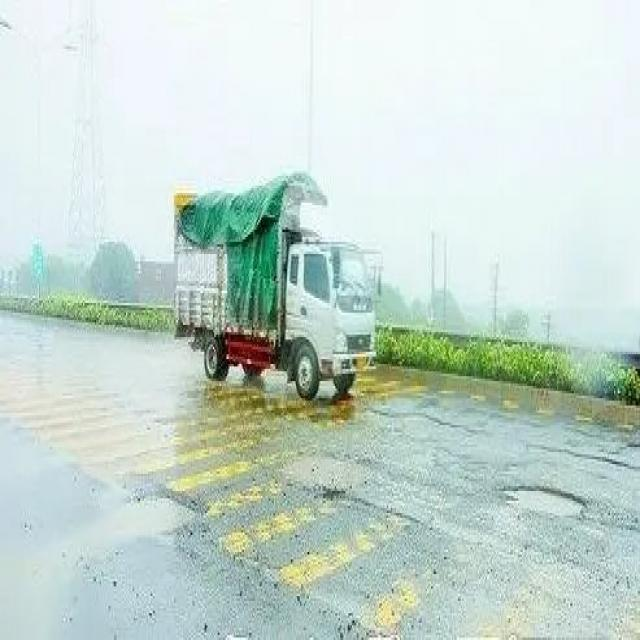Pothole: (505, 476, 585, 523)
